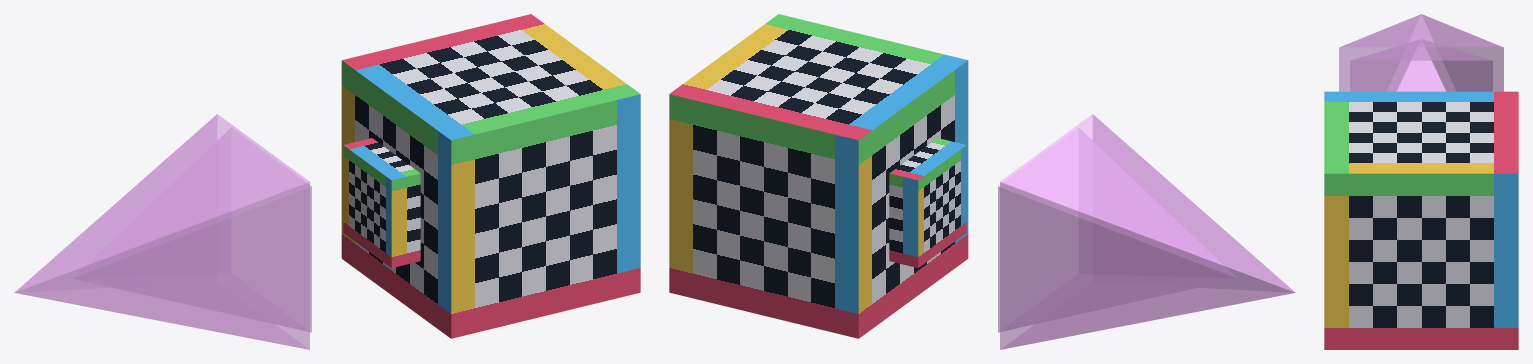
The model's file is test_anim.gltf.
3 views of the same model, side by side, from view 1: azimuth 30°, elevation 25°; view 2: azimuth 150°, elevation 25°; view 3: azimuth 270°, elevation 25° (orthographic). The views are drawn at different scales.
Parts seen in each view (by area): view 1: Bone (×2), flameGlow, flame; view 2: Bone (×2), flameGlow, flame; view 3: Bone, flameGlow, flame.
Part boxes in pixels (x1=…): Bone (×2): x1=341, y1=14, x2=640, y2=338; flameGlow: x1=14, y1=114, x2=309, y2=349; flame: x1=73, y1=128, x2=311, y2=332; Bone (×2): x1=669, y1=14, x2=968, y2=338; flameGlow: x1=1000, y1=114, x2=1295, y2=349; flame: x1=998, y1=128, x2=1236, y2=332; Bone: x1=1324, y1=91, x2=1518, y2=349; flameGlow: x1=1339, y1=14, x2=1503, y2=91; flame: x1=1350, y1=39, x2=1492, y2=91.
Bounding box in the file's own units: 2.86 × 0.95 × 0.95.
Materials: 2 (1 with a texture image).
